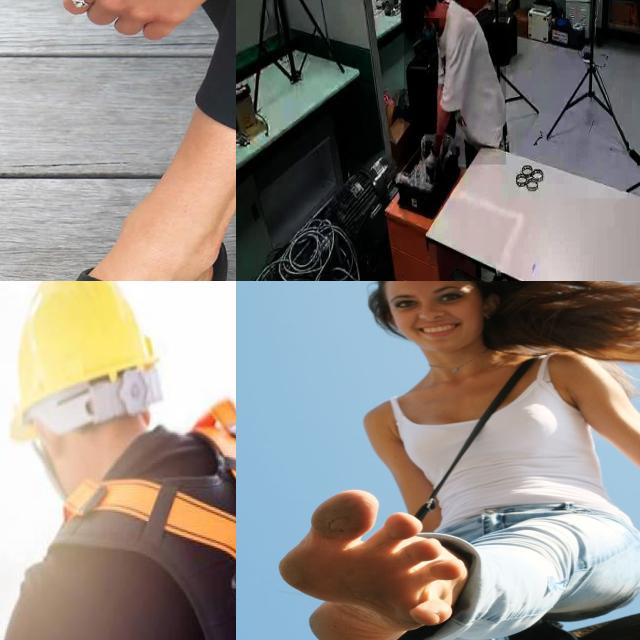Barefoots: (278, 489, 463, 640)
Harness: (54, 402, 236, 640)
face_mask: (420, 18, 440, 47)
hand_glove: (425, 135, 443, 183)
person: (403, 0, 506, 165)
